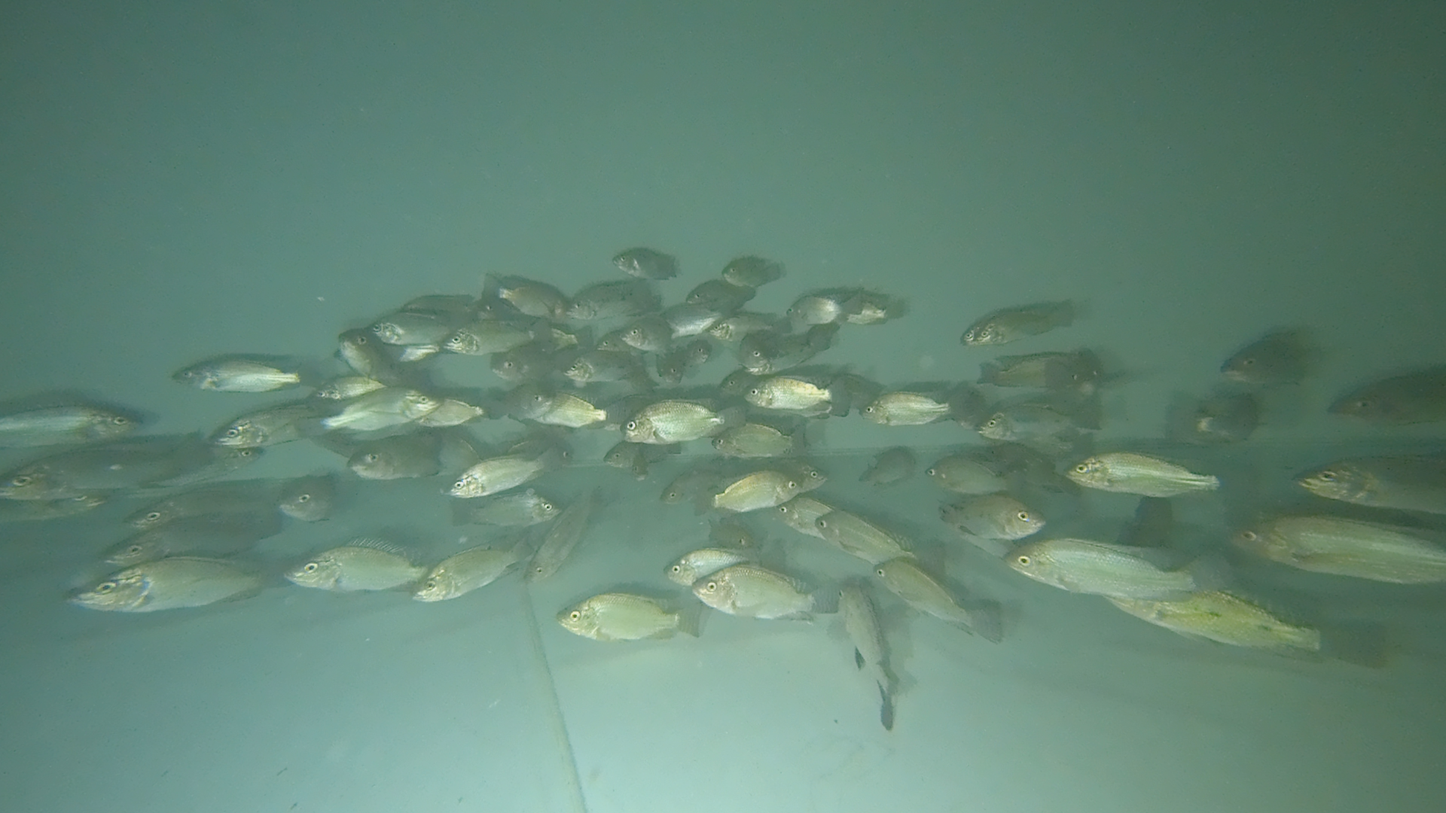fish: (1061, 449, 1258, 502), (169, 355, 341, 398), (618, 397, 750, 444), (857, 389, 975, 430), (440, 315, 557, 354), (742, 376, 851, 411)
